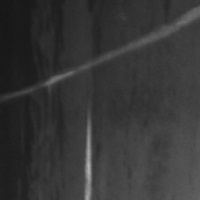inclusion: (0, 1, 67, 199)
scratches: (3, 5, 198, 100), (79, 103, 97, 199)
